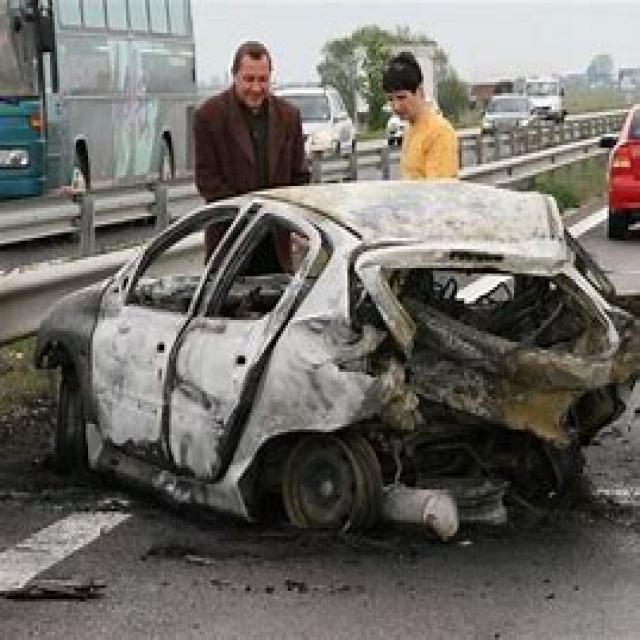Accident: (64, 121, 640, 544)
